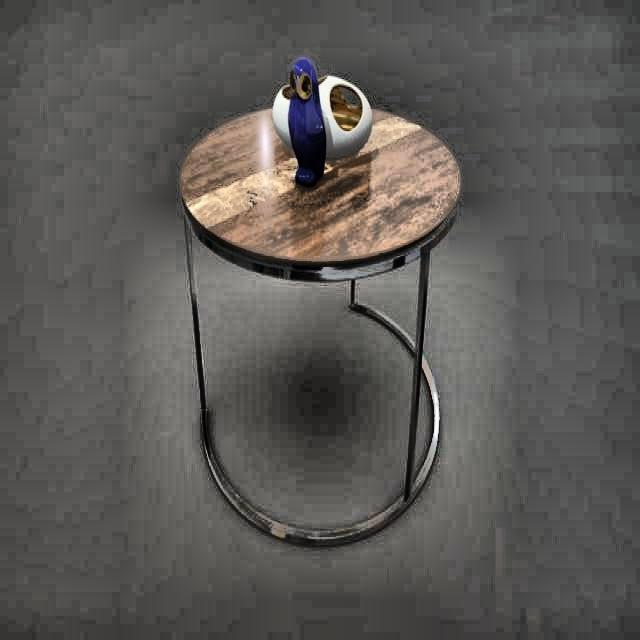mesa: (180, 105, 464, 550)
